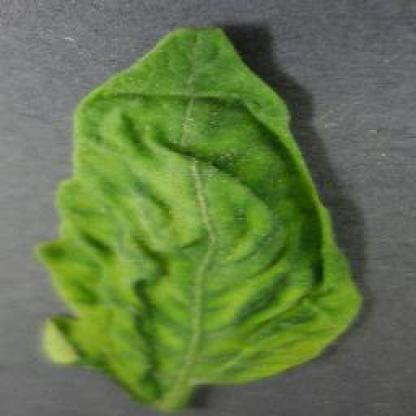bad leaf: (88, 39, 349, 403)
